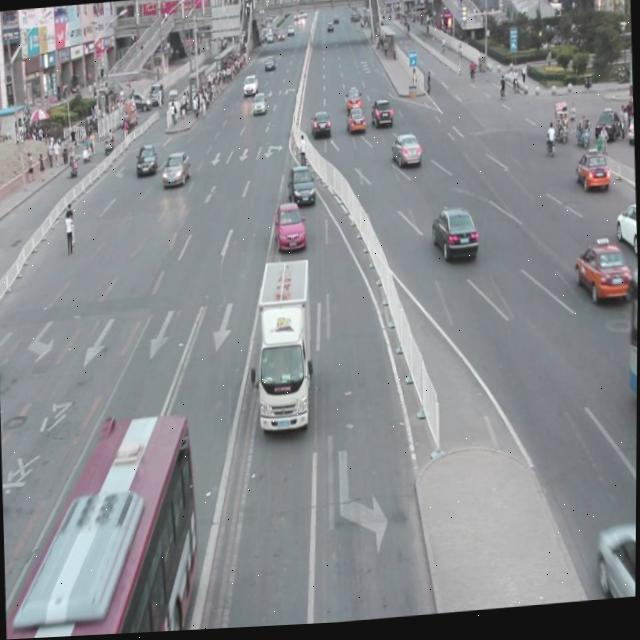bus: (252, 259, 315, 434)
car: (573, 245, 630, 308), (432, 208, 478, 267), (272, 203, 305, 254), (574, 155, 609, 197), (612, 208, 638, 258), (160, 152, 191, 188), (288, 167, 315, 207), (391, 137, 421, 171)
van: (0, 412, 201, 640)
